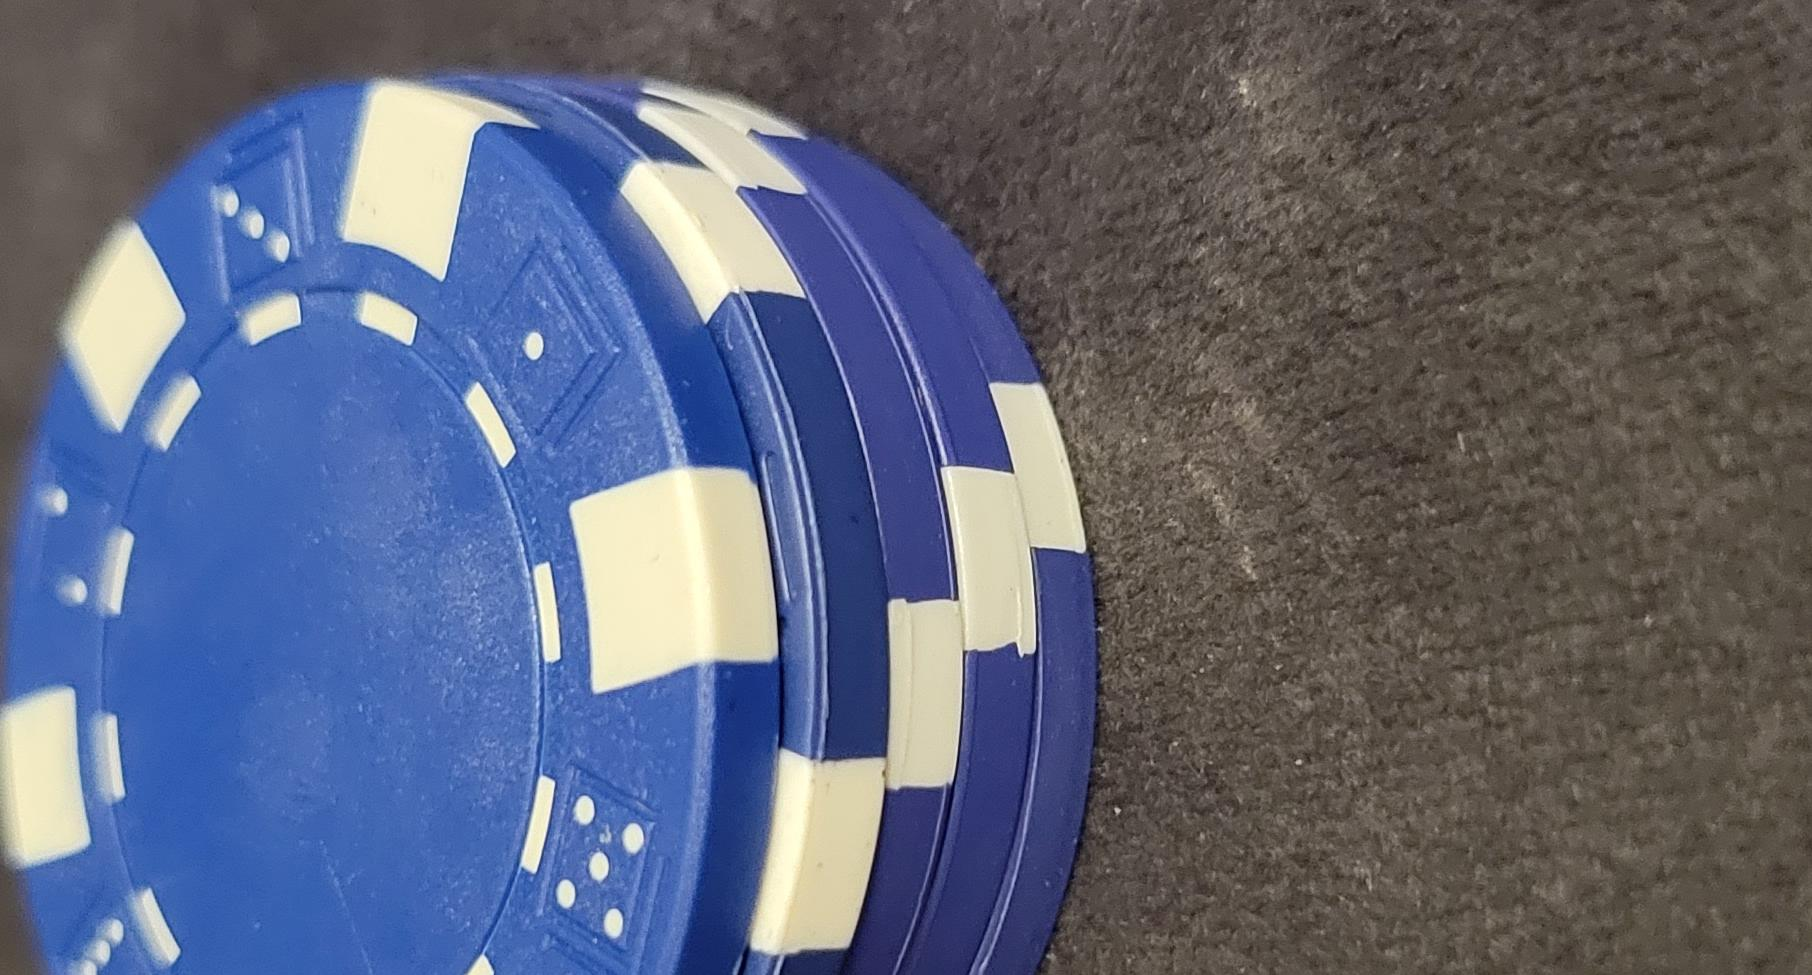Chip: (1, 268, 1064, 975)
